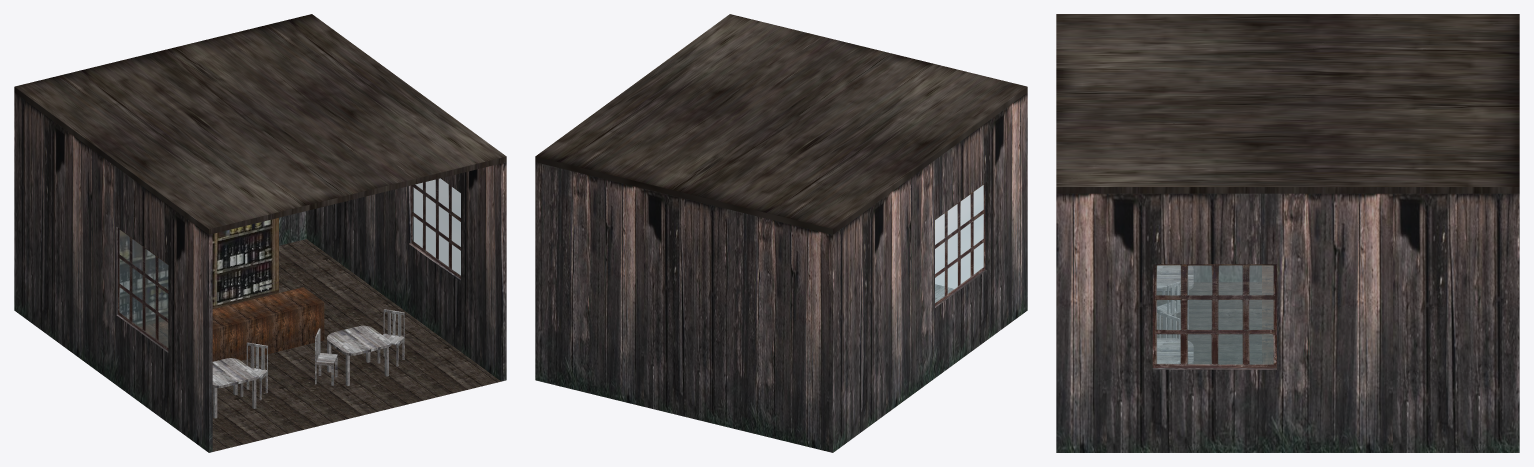
Rendered from bar_shack.glb.
3 renders of one model, left to right at view 1: azimuth 30°, elevation 25°; view 2: azimuth 150°, elevation 25°; view 3: azimuth 270°, elevation 25°, orthographic. The views are drawn at different scales.
Visible parts, largest first — view 1: Material2 (×5), Material3; view 2: Material2 (×3); view 3: Material2 (×4), Material3.
Part boxes in pixels (left/top/right/bottom): Material2 (×5): left=14, top=14, right=506, bottom=452; Material3: left=140, top=287, right=324, bottom=361; Material2 (×3): left=535, top=14, right=1027, bottom=452; Material2 (×4): left=1056, top=14, right=1519, bottom=452; Material3: left=1262, top=265, right=1273, bottom=363.
Bounding box in the file's own units: 163 × 117 × 185.
Materials: 7 (7 with a texture image).
